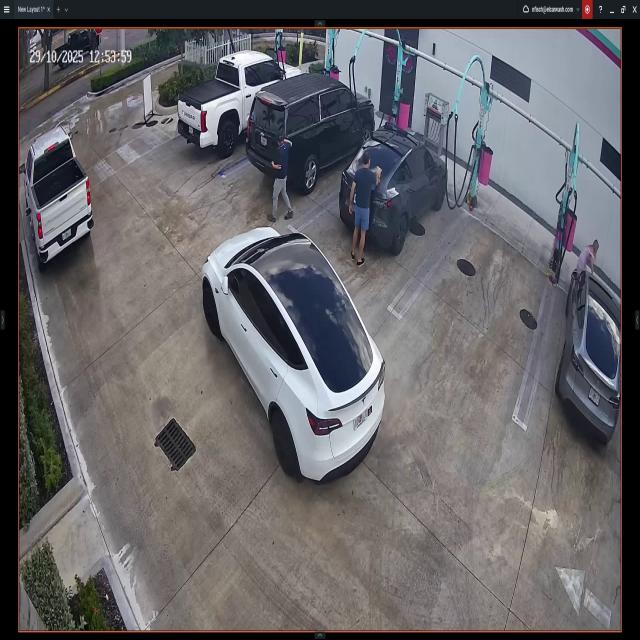Car: (202, 226, 386, 483), (248, 65, 374, 190), (342, 128, 446, 259), (178, 46, 301, 155), (557, 269, 620, 440), (22, 127, 94, 263)
